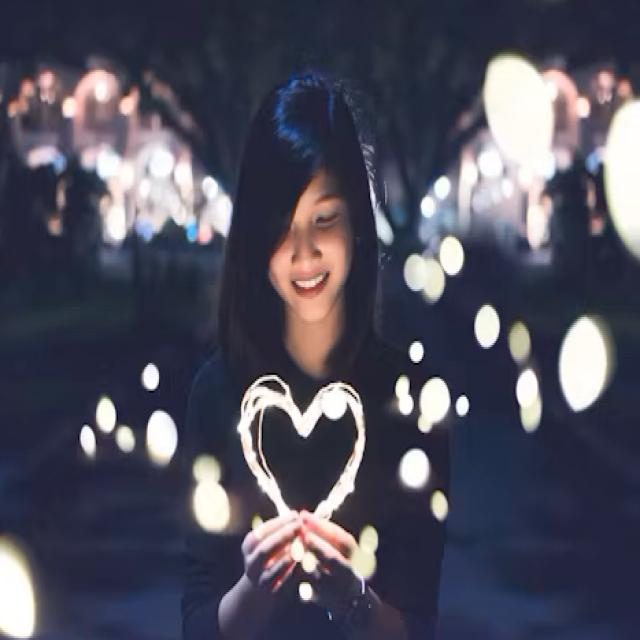Edited images: (188, 85, 455, 640)
